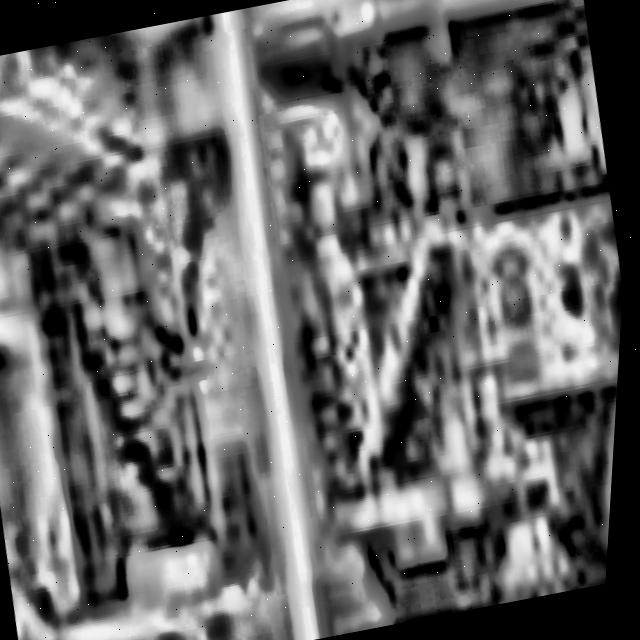dump_truck: (215, 0, 640, 637), (0, 19, 313, 640)
